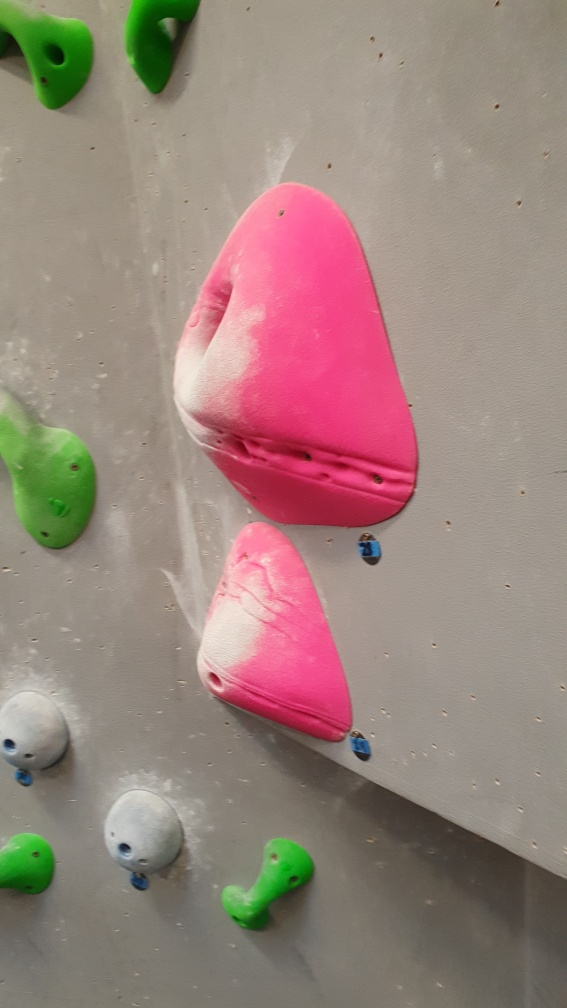Hand Start: (355, 534, 386, 568), (346, 728, 373, 766), (125, 869, 149, 894), (11, 766, 36, 789)
Pocket: (164, 175, 418, 531), (199, 518, 360, 743)
Sloper: (100, 785, 185, 873), (1, 688, 70, 774)
